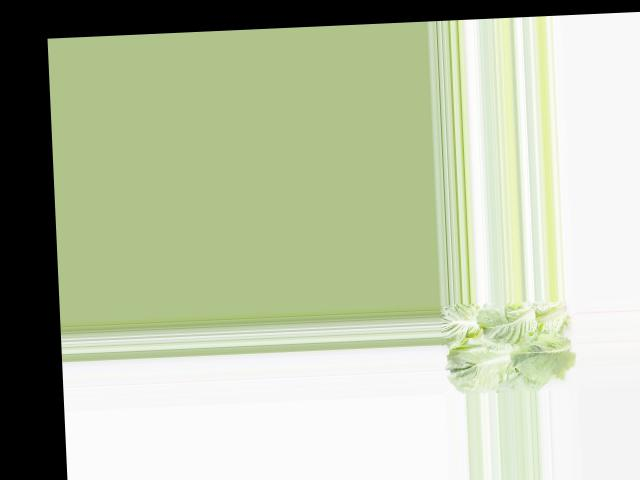lettuce: (442, 298, 573, 392)
